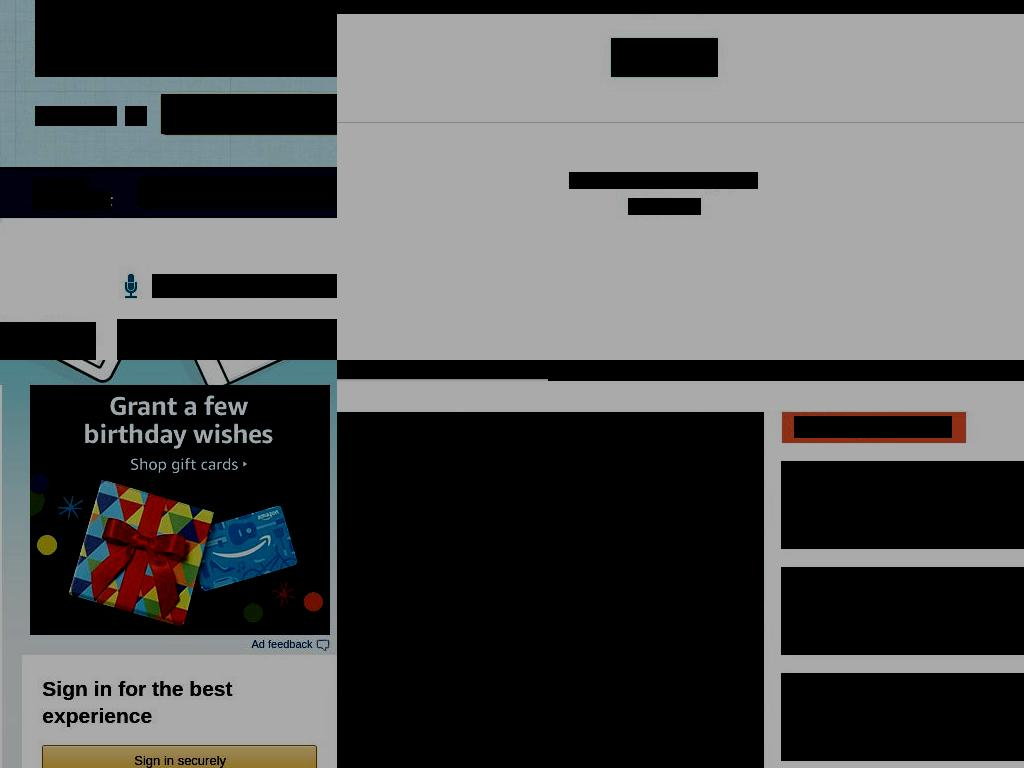button: (849, 600, 1024, 655), (866, 706, 1024, 761), (895, 494, 1024, 549), (161, 94, 337, 134), (42, 745, 318, 768), (781, 494, 896, 549), (43, 746, 317, 768), (781, 706, 867, 761), (611, 38, 718, 77), (781, 600, 850, 655), (744, 360, 876, 381), (548, 360, 669, 381), (875, 360, 992, 381), (668, 360, 745, 381), (251, 638, 330, 652)
field: (138, 178, 337, 206)
heading: (781, 461, 1024, 549), (781, 567, 1024, 655), (781, 673, 1024, 761), (42, 675, 318, 729), (337, 0, 1024, 14), (152, 274, 337, 298), (794, 416, 952, 438), (33, 191, 111, 211), (33, 177, 89, 191)
iframe: (29, 385, 330, 635)
image: (337, 412, 764, 768), (315, 639, 330, 651)
link: (35, 106, 117, 126), (628, 198, 701, 215)
text: (35, 0, 337, 77), (569, 172, 758, 189), (251, 638, 316, 650), (125, 106, 147, 126)
